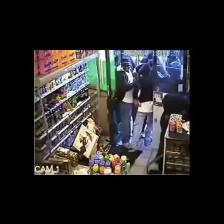person: (156, 92, 189, 157), (114, 59, 137, 148), (131, 64, 153, 150), (133, 58, 148, 79)
